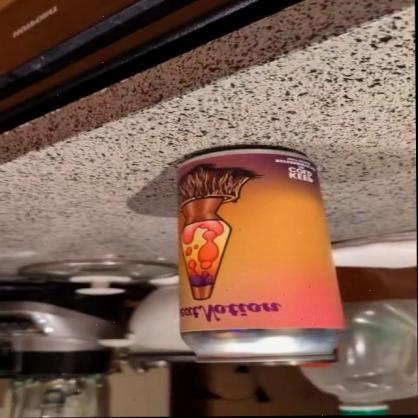can: (174, 146, 343, 366)
